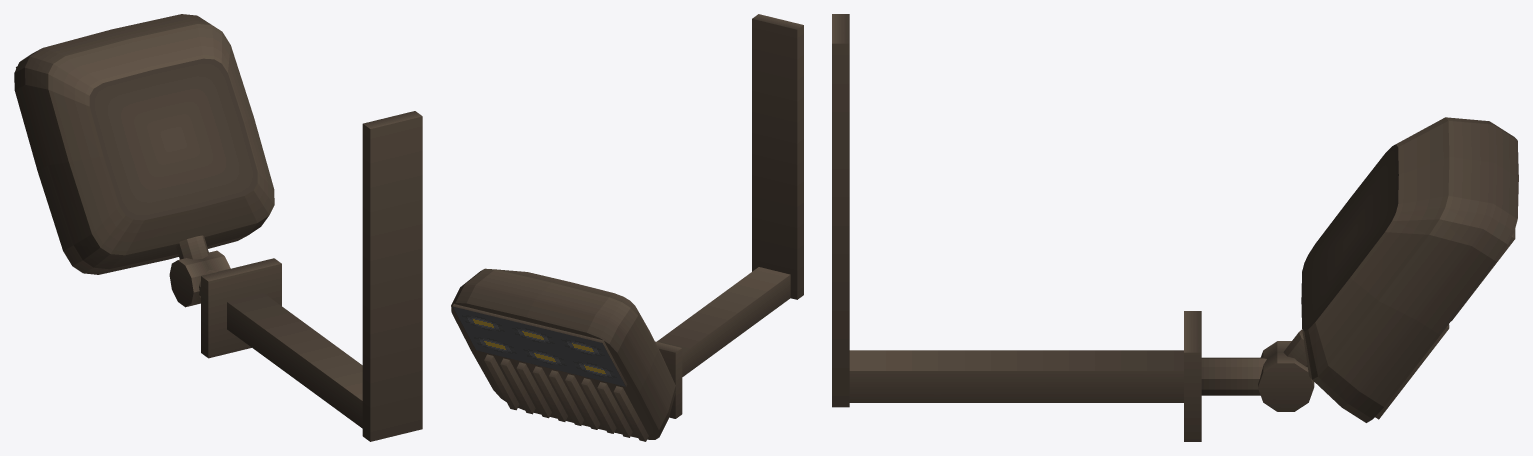
File: floodlight_lithdsxf3kn_x.obj
3 views of the same model, side by side, from view 1: azimuth 30°, elevation 25°; view 2: azimuth 150°, elevation 25°; view 3: azimuth 270°, elevation 25° (orthographic). The views are drawn at different scales.
Visible parts, largest first — view 1: fixture; view 2: fixture; view 3: fixture.
Boxes of the visible parts, x1,y1,x2,y2 form: fixture: (14,14,422,441); fixture: (451,14,803,441); fixture: (832,14,1518,441).
Bounding box in the file's own units: 0.4643 × 0.7687 × 1.22.
